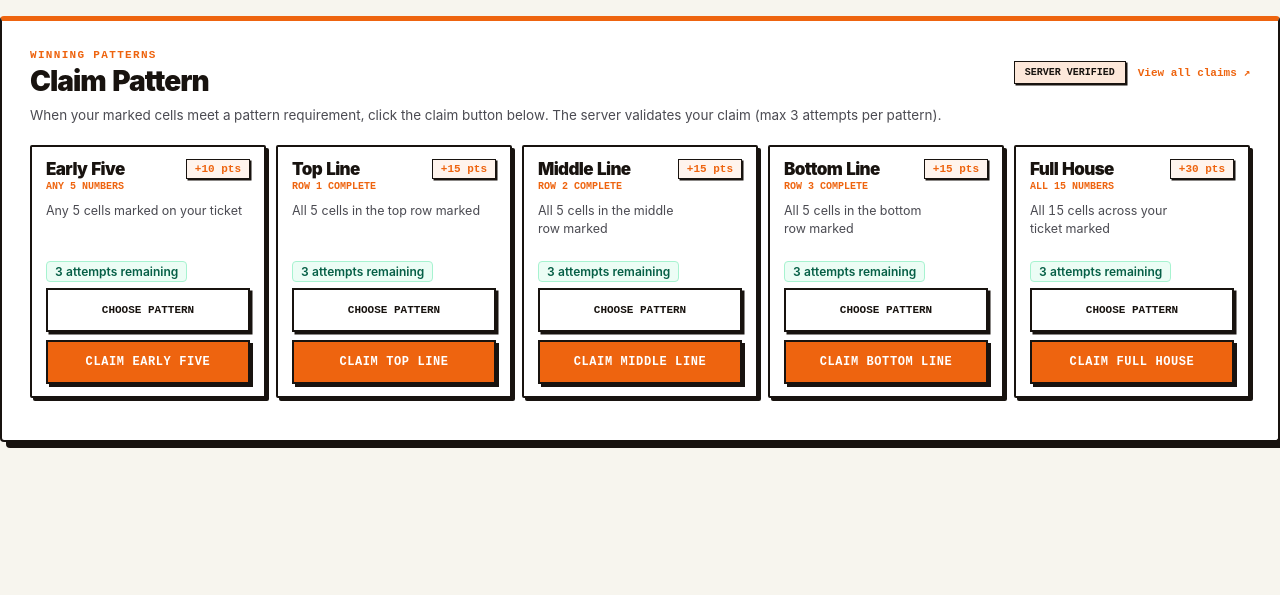
it: participant claims › reconciles a timed out request against server history before retrying
Click the button "Claim Early Five". click: (148, 362)
box: 46,340 -> 250,384
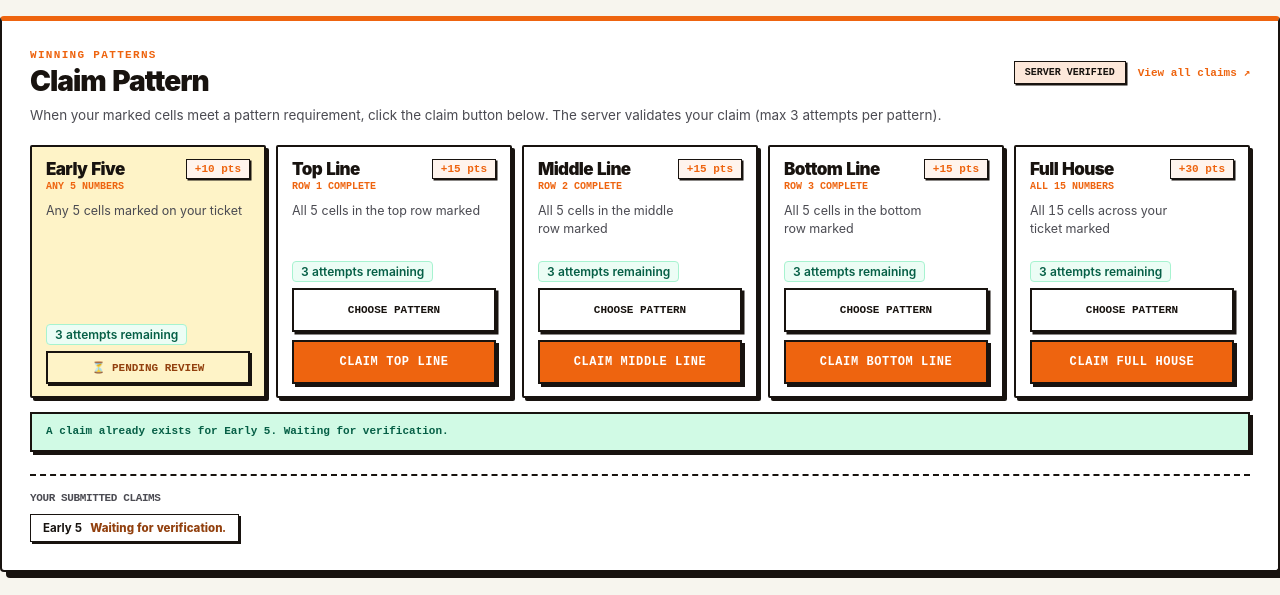
Check: the text "A claim already exists for Early 5. Waiting for verification." is shown, box 30,412 -> 1250,452
